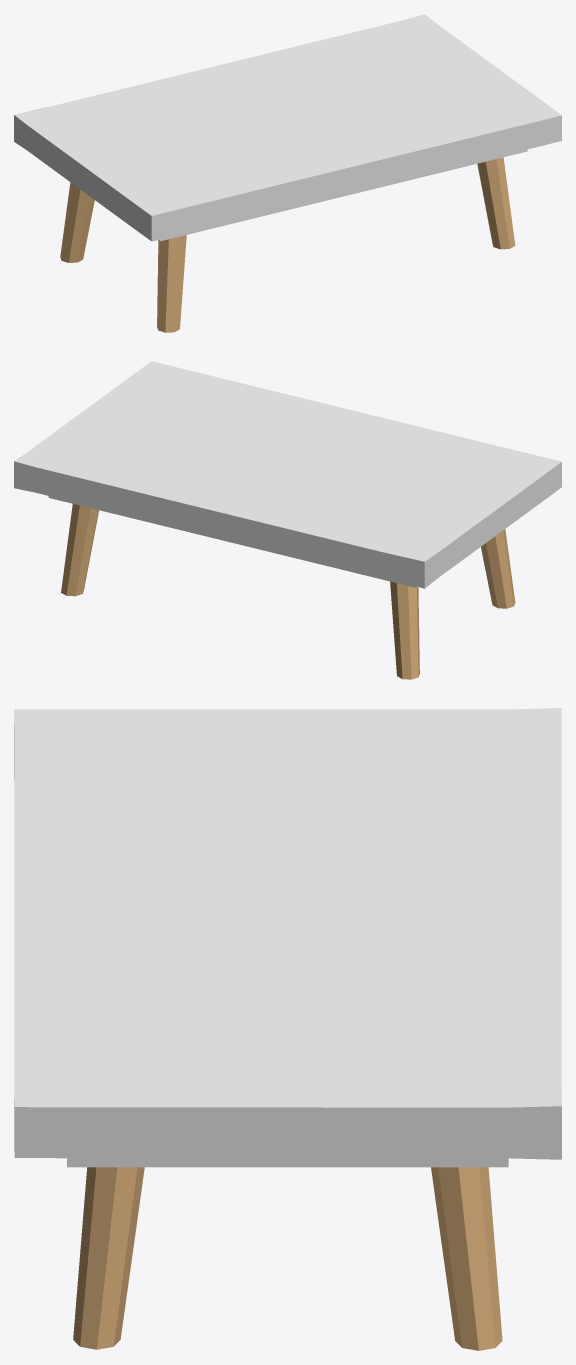
The model's file is Coffe_Table.fbx.
3 renders of one model, top to bottom at view 1: azimuth 30°, elevation 25°; view 2: azimuth 150°, elevation 25°; view 3: azimuth 270°, elevation 25°, orthographic. The views are drawn at different scales.
Parts seen in each view (by area): view 1: Coffe_Table_2; view 2: Coffe_Table_2; view 3: Coffe_Table_2.
Boxes of the visible parts, x1,y1,x2,y2 form: Coffe_Table_2: [14, 14, 561, 332]; Coffe_Table_2: [14, 361, 561, 679]; Coffe_Table_2: [14, 708, 561, 1350].
Bounding box in the file's own units: 5.16 × 1.65 × 2.99.
